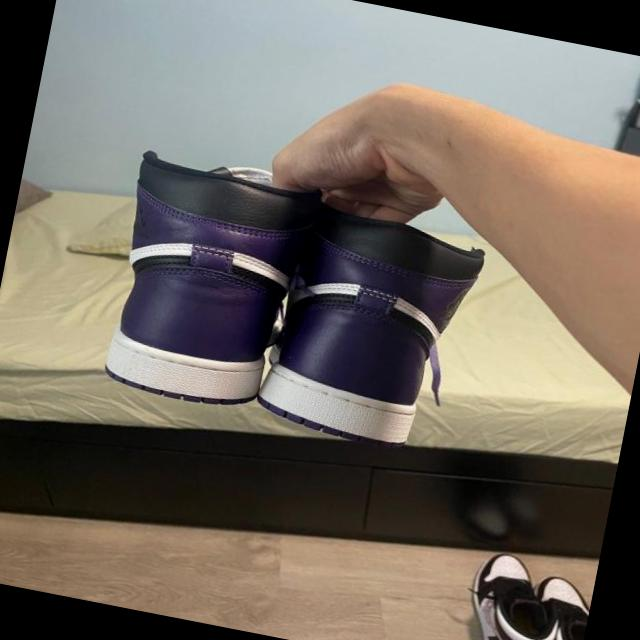nike_original_jordan: (242, 195, 496, 462), (97, 147, 340, 426)
